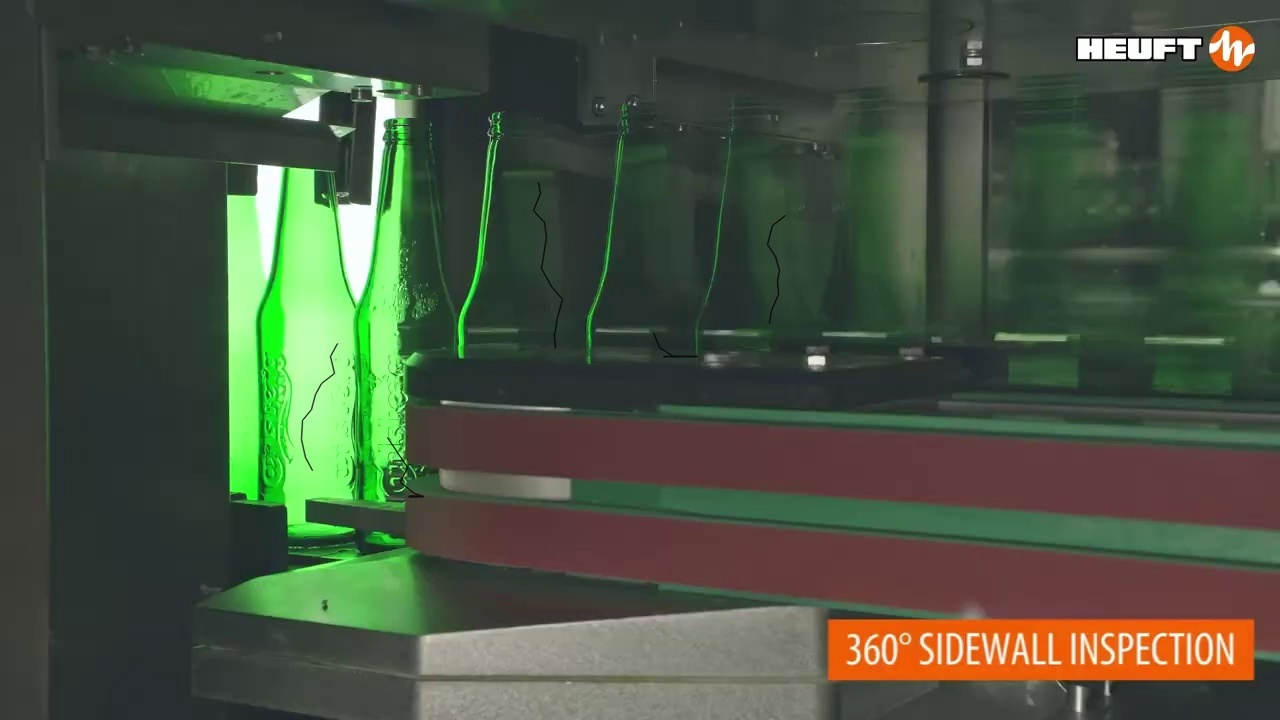bottle: (983, 70, 1158, 342), (355, 117, 460, 501), (257, 164, 364, 540), (1146, 52, 1279, 346), (585, 100, 702, 359), (697, 94, 822, 336), (458, 109, 567, 363), (824, 85, 920, 335)
crack: (533, 182, 562, 348), (301, 343, 337, 470), (387, 437, 423, 496), (767, 215, 785, 323), (653, 332, 697, 356)
